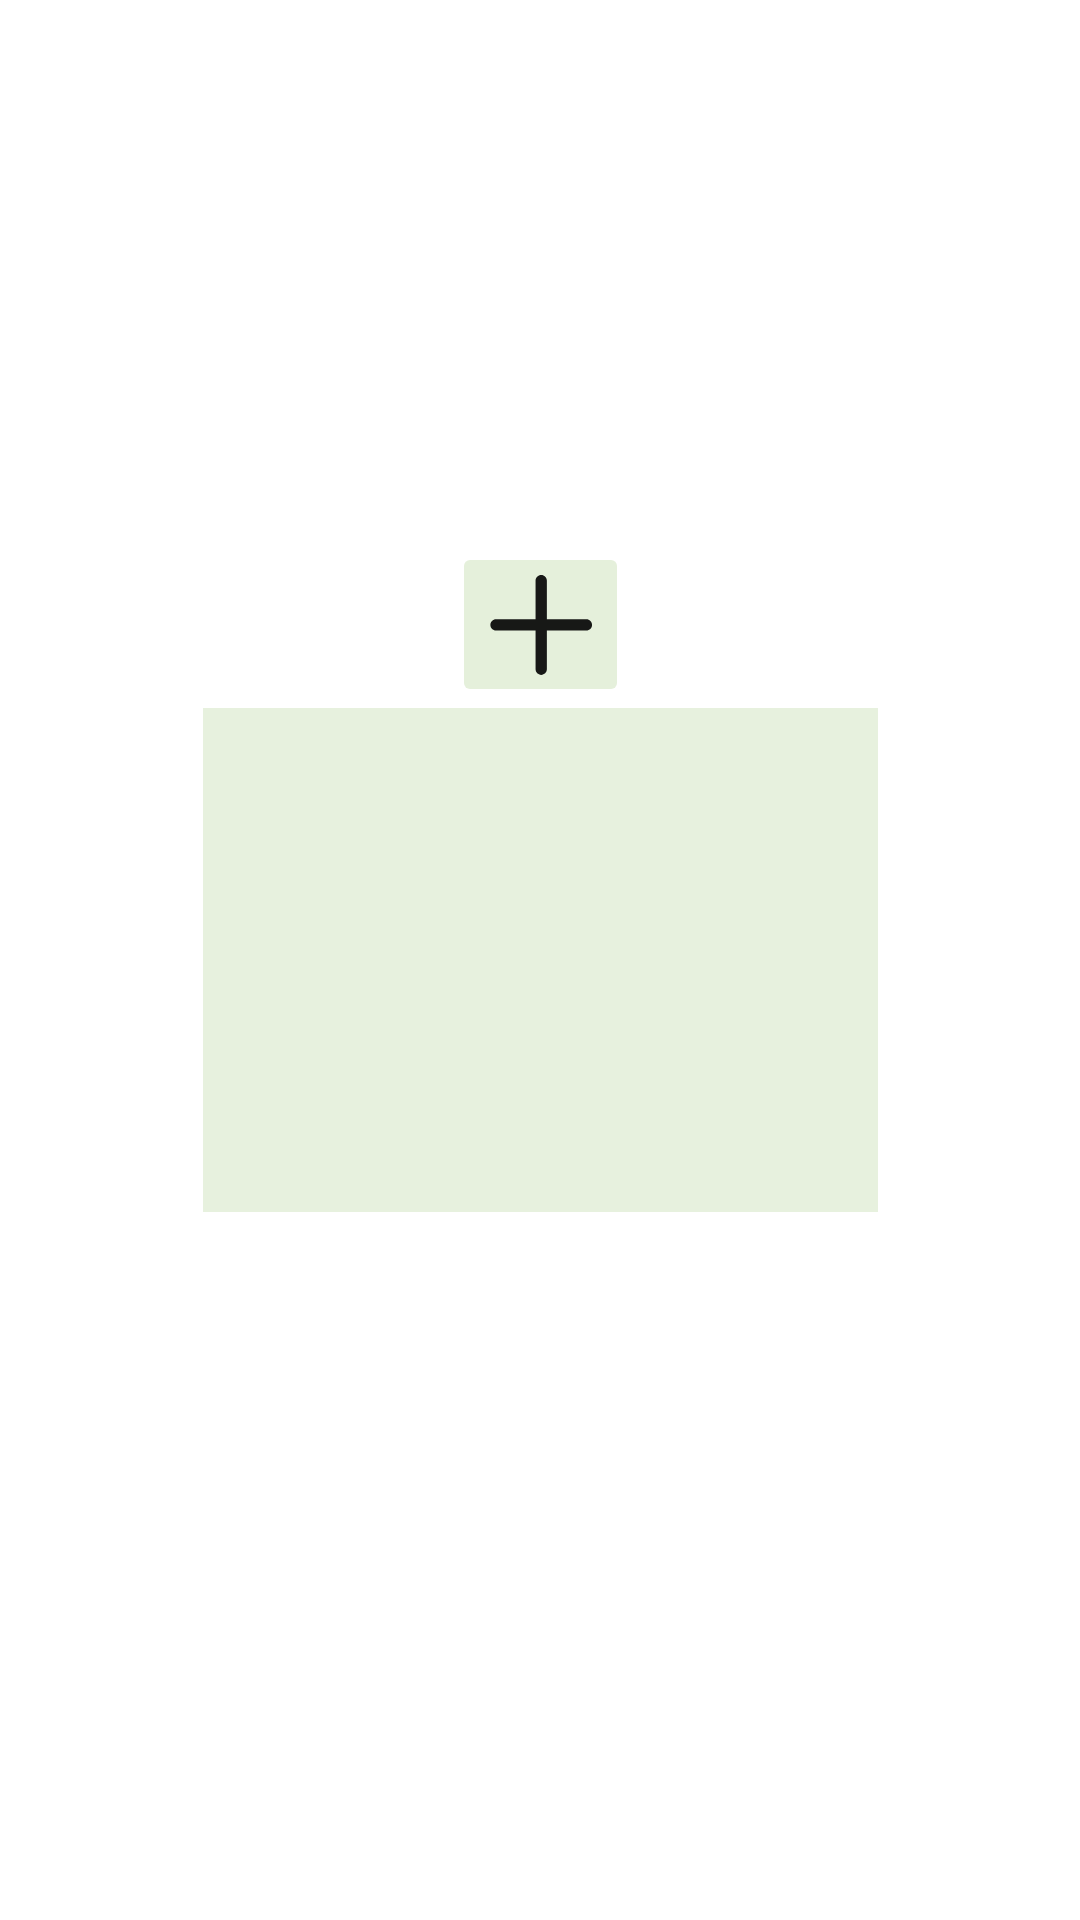

Icons on this 1080x1920 Android screen, each with the point to tap as (x,y):
plusodzdjecia: (540,624)
